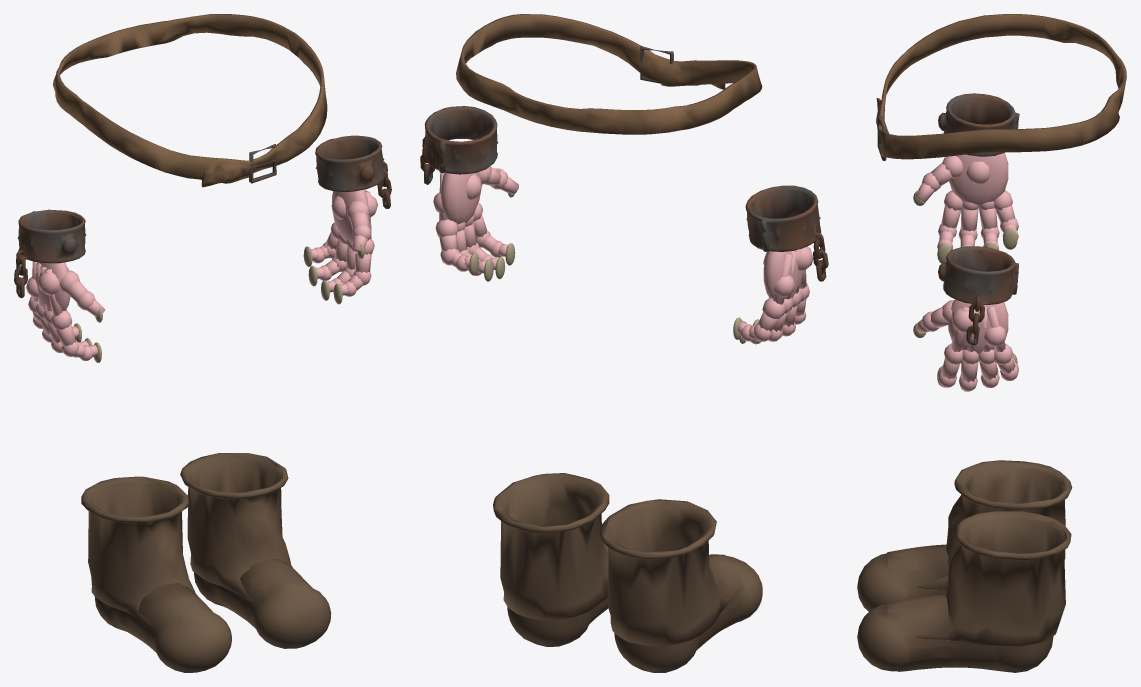
Rendered from zombie-fat-parts.glb.
3 views of the same model, side by side, from view 1: azimuth 30°, elevation 25°; view 2: azimuth 150°, elevation 25°; view 3: azimuth 270°, elevation 25° (orthographic). The views are drawn at different scales.
Visible parts, largest first — view 1: pelvis|belt, shin.l|boot, shin.r|boot, foot.r|boot, foot.l|boot, foreArm.l|hand, foreArm.r|hand, foreArm.l|shackle, foreArm.r|shackle; view 2: shin.r|boot, pelvis|belt, shin.l|boot, foreArm.l|hand, foot.r|boot, foreArm.r|shackle, foreArm.l|shackle, foreArm.r|hand, foot.l|boot; view 3: shin.l|boot, pelvis|belt, foot.l|boot, foreArm.r|hand, shin.r|boot, foreArm.l|hand, foreArm.l|shackle, foot.r|boot, foreArm.r|shackle.
Boxes of the visible parts, x1,y1,x2,y2 form: pelvis|belt: (53,14,327,187); shin.l|boot: (180,453,293,601); shin.r|boot: (81,476,197,625); foot.r|boot: (94,583,231,672); foot.l|boot: (194,558,331,648); foreArm.l|hand: (303,189,377,304); foreArm.r|hand: (26,261,105,362); foreArm.l|shackle: (315,135,391,208); foreArm.r|shackle: (14,209,86,298); shin.r|boot: (599,499,739,646); pelvis|belt: (456,14,762,134); shin.l|boot: (493,473,609,619); foreArm.l|hand: (433,166,518,281); foot.r|boot: (614,554,762,672); foreArm.r|shackle: (745,185,828,281); foreArm.l|shackle: (420,106,498,184); foreArm.r|hand: (733,246,813,344); foot.l|boot: (507,544,608,646); shin.l|boot: (917,511,1071,646); pelvis|belt: (876,14,1126,159); foot.l|boot: (857,594,1053,672); foreArm.r|hand: (913,152,1018,263); shin.r|boot: (917,460,1072,589); foreArm.l|hand: (913,299,1018,391); foreArm.l|shackle: (938,246,1018,345); foot.r|boot: (857,544,948,611); foreArm.r|shackle: (938,93,1019,156).
Bounding box in the file's own units: 0.7595 × 1.06 × 0.4549.
